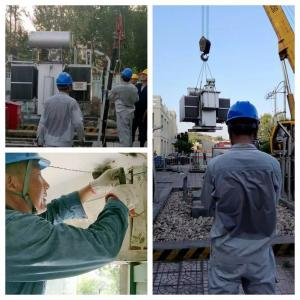blue: (7, 154, 52, 215), (228, 101, 263, 145), (57, 73, 74, 94), (121, 69, 134, 84)
yellow: (132, 73, 139, 85), (143, 70, 149, 82)
